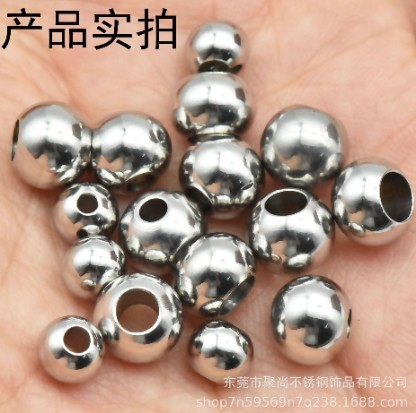ironball: (92, 272, 183, 364), (117, 189, 206, 277), (247, 187, 335, 275), (259, 103, 348, 190), (178, 133, 264, 220), (270, 274, 351, 366), (330, 157, 413, 246), (172, 232, 256, 318), (10, 101, 91, 190), (90, 110, 171, 192), (171, 71, 254, 139), (37, 315, 105, 384), (186, 319, 253, 385), (60, 235, 126, 301), (52, 182, 118, 245), (184, 20, 249, 74)
